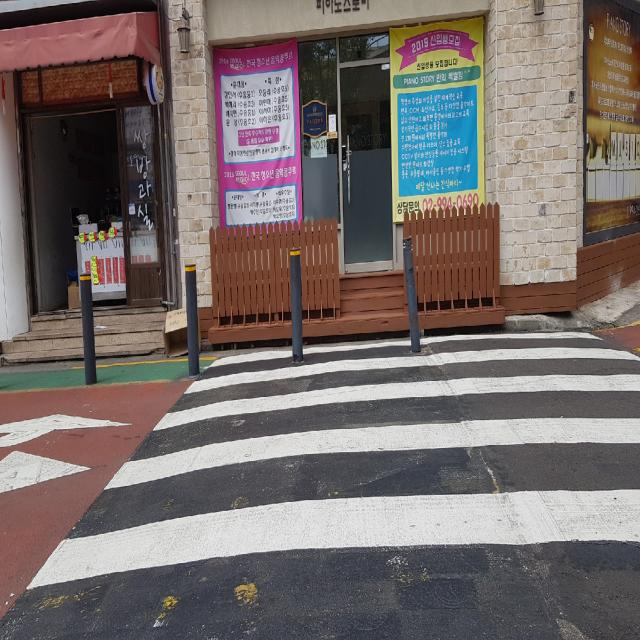횡단보도: (26, 331, 640, 591)
